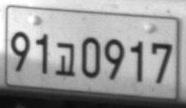0: (80, 35, 101, 78)
1: (127, 40, 149, 82), (33, 33, 54, 74)
7: (150, 42, 173, 84)
9: (103, 37, 125, 80), (9, 30, 31, 72)
고: (54, 41, 76, 76)
